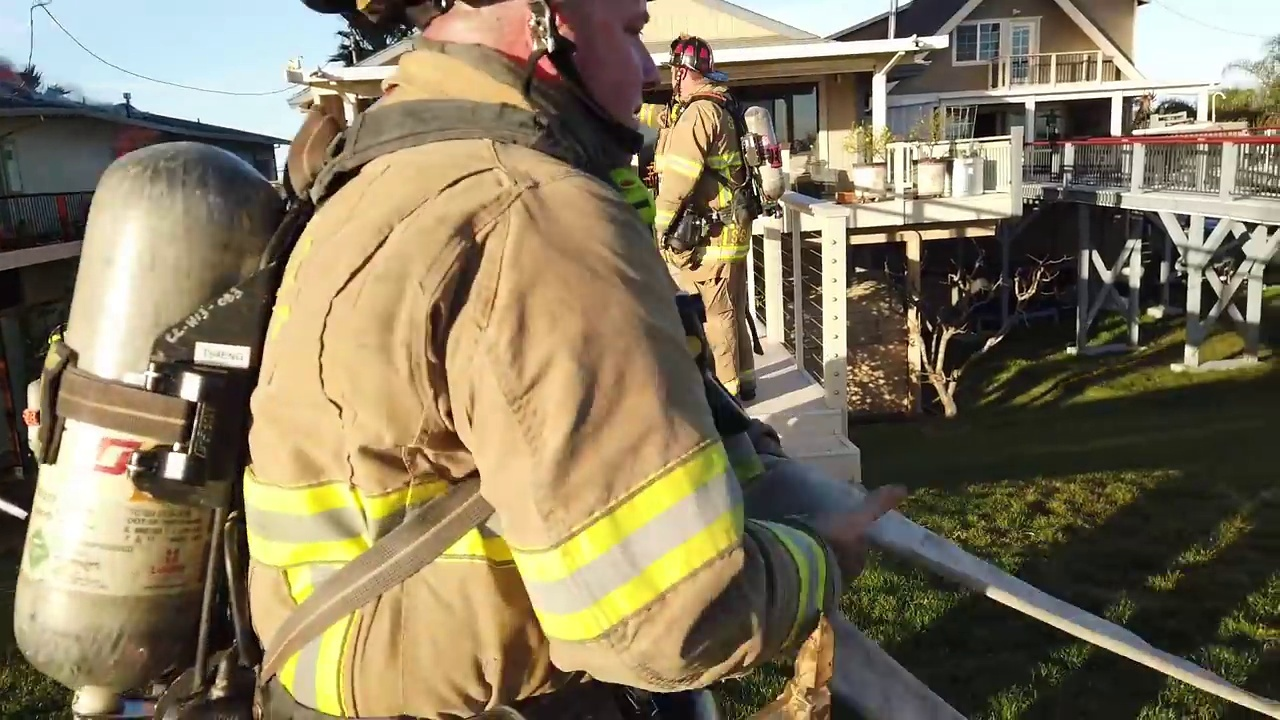fire: (22, 408, 37, 428)
